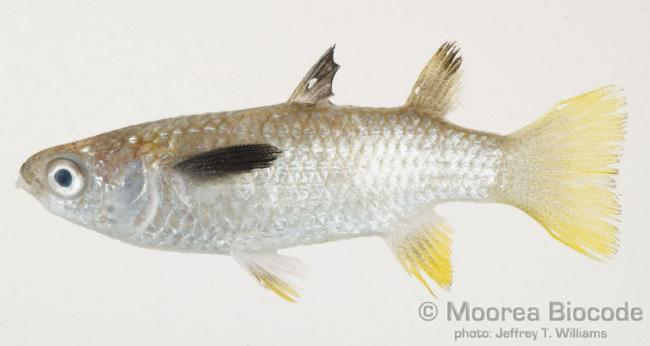fish: (16, 38, 627, 301)
